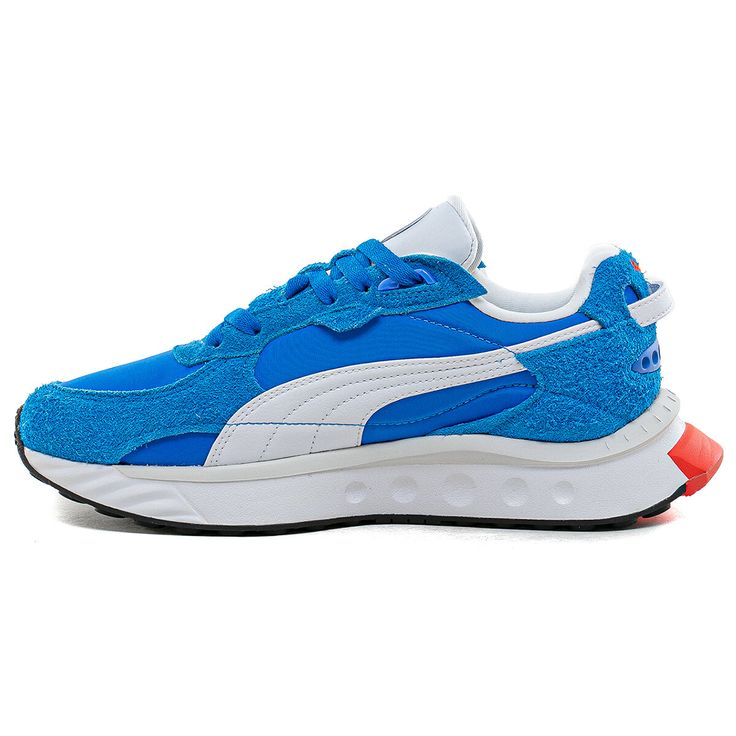gamuza: (18, 255, 664, 467)
